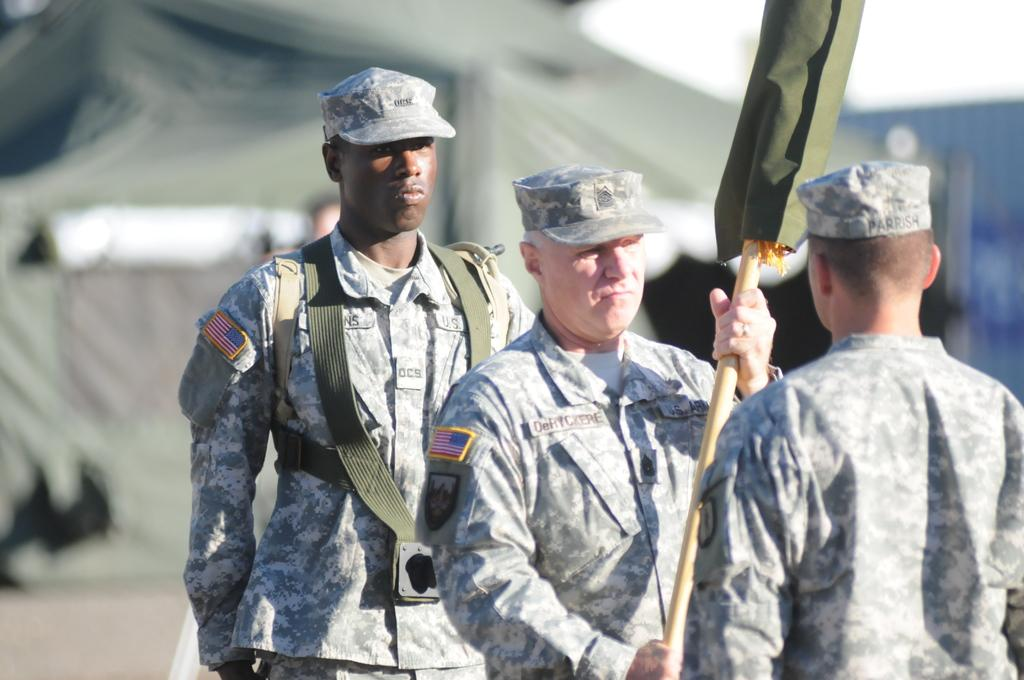Hat: (508, 160, 668, 247), (790, 160, 932, 251), (318, 66, 456, 146)
